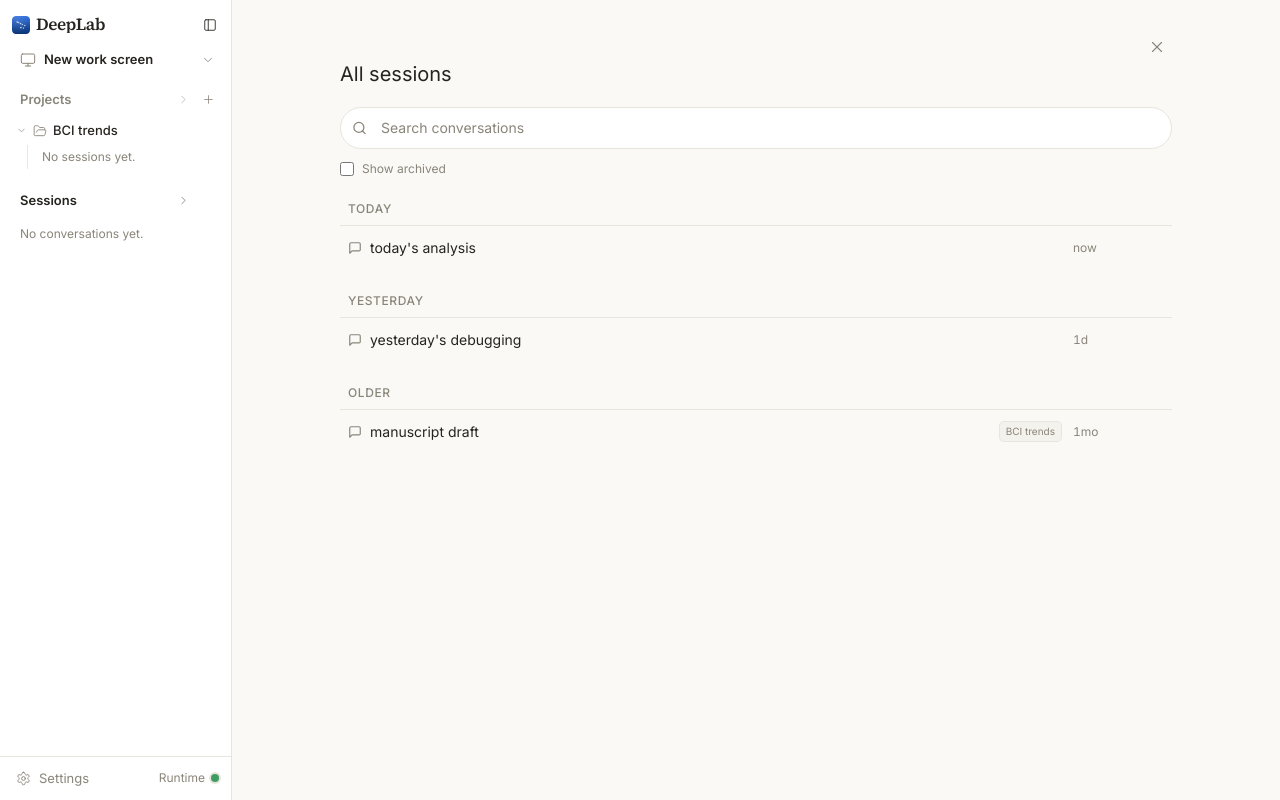
HistoryPage › searches on the server, not by filtering a downloaded history
The image size is (1280, 800).
Expected: the button "today's analysis" is shown, [370, 238, 1061, 258]
Type "manuscript" into the field with placeholder "Search conversations" at (756, 128), box [340, 107, 1172, 149]
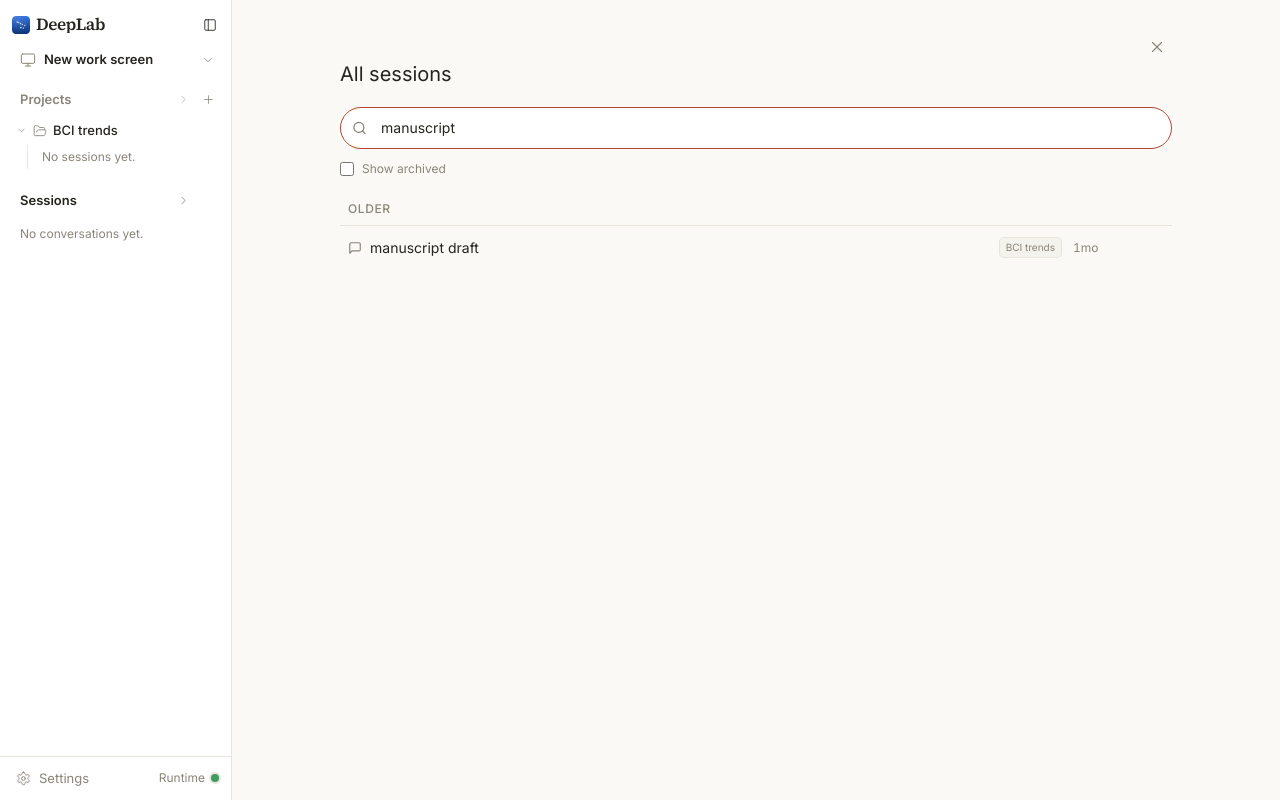
Expected: the button "manuscript draft" is shown, [370, 238, 992, 258]
Now the button "today's analysis" is gone
